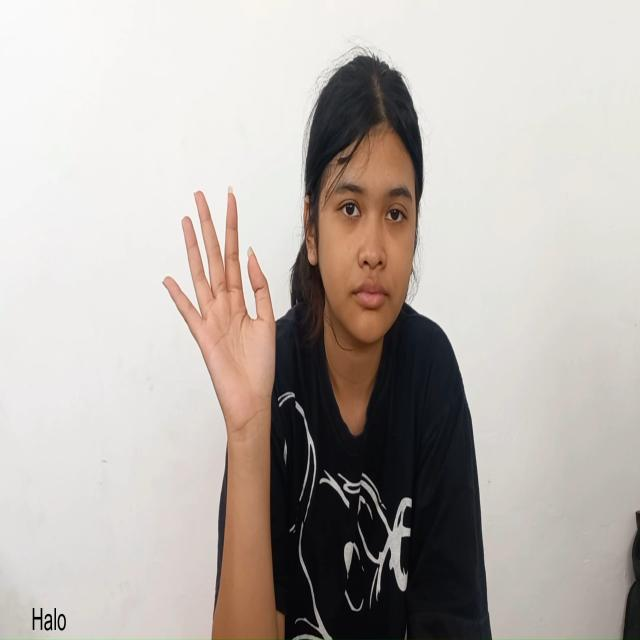Halo -BISINDO-: (154, 158, 282, 458)
